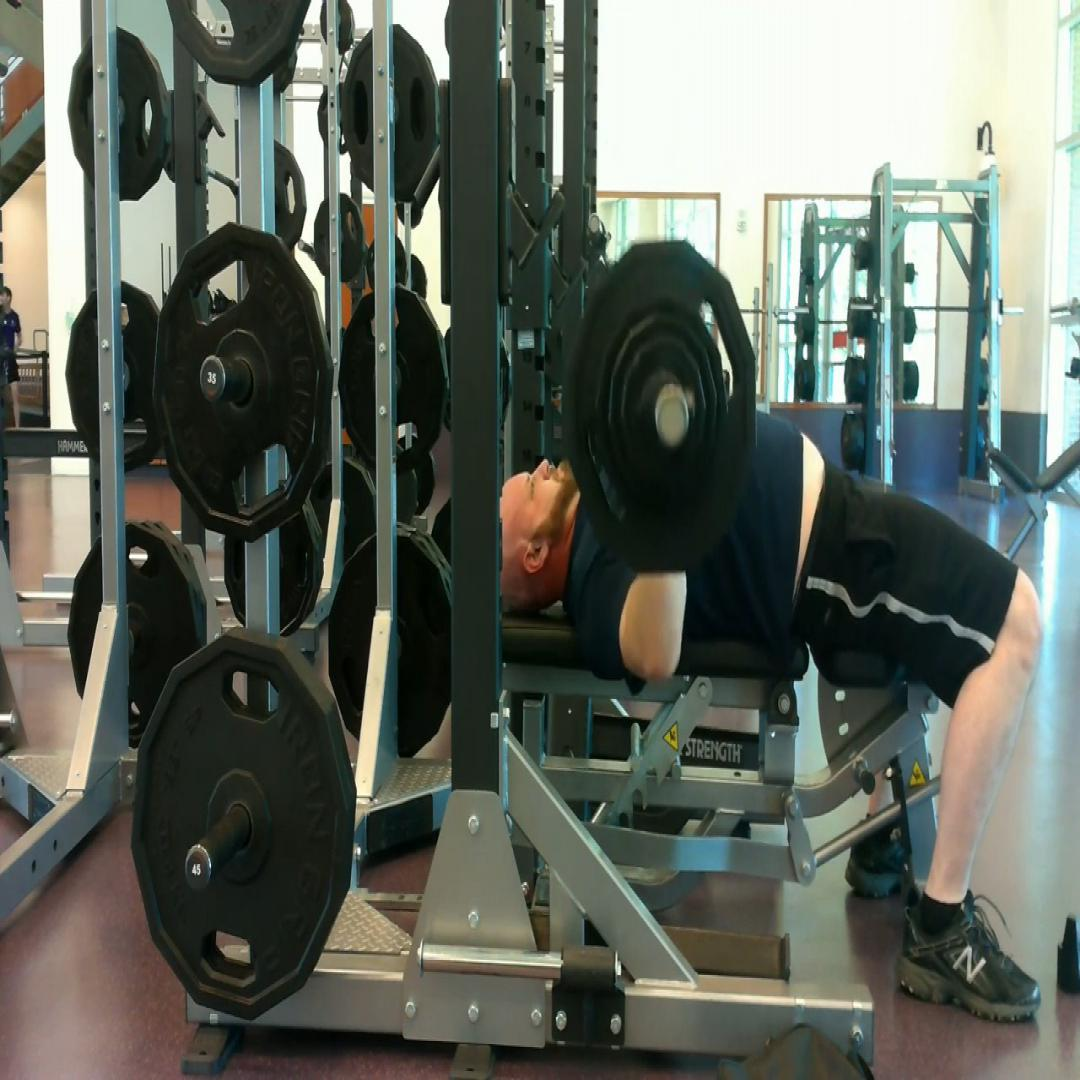Bar: (654, 384, 690, 450)
Barbell: (563, 240, 757, 574)
